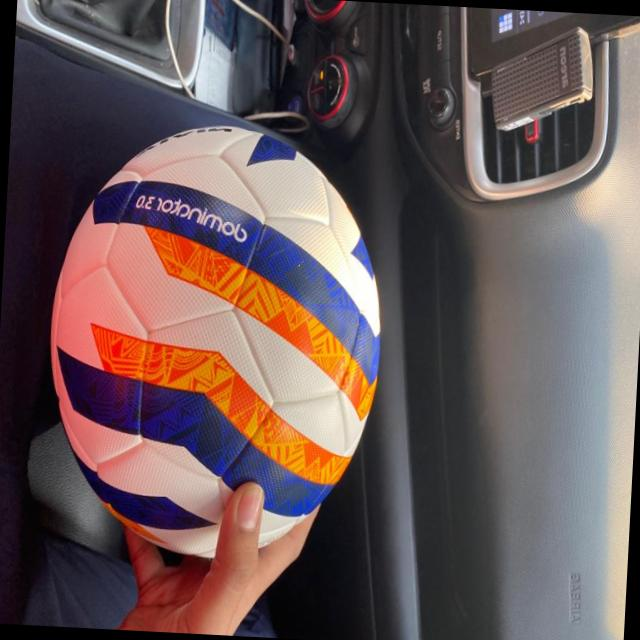Others: (22, 118, 419, 567)
